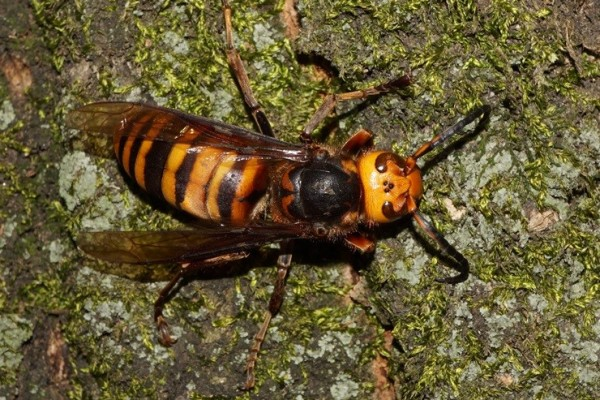asian_giant_hornet: (108, 106, 461, 254)
